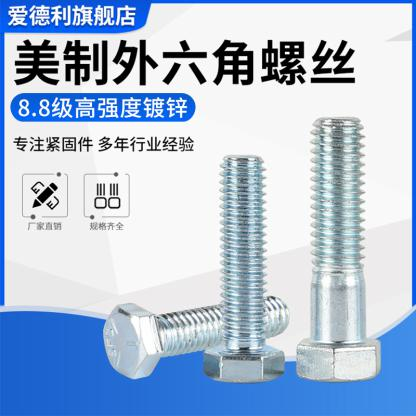FOD: (294, 110, 384, 383), (202, 153, 288, 384), (100, 294, 292, 381)
